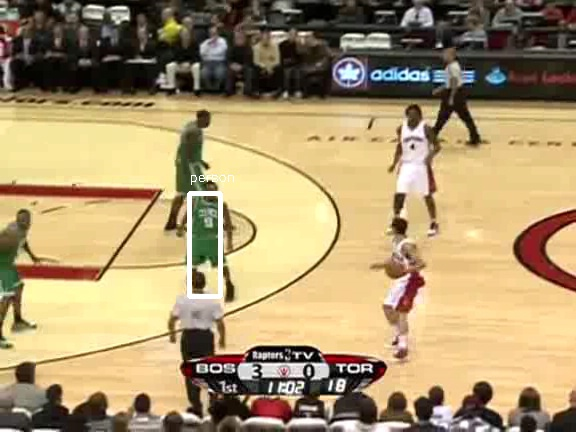person: (189, 194, 223, 275), (188, 194, 222, 275), (190, 194, 224, 275), (189, 193, 223, 274), (189, 195, 223, 276)
target_negative: (181, 16, 374, 400), (15, 48, 370, 142), (41, 139, 325, 221), (433, 273, 571, 415), (439, 328, 531, 422), (320, 429, 398, 432)
